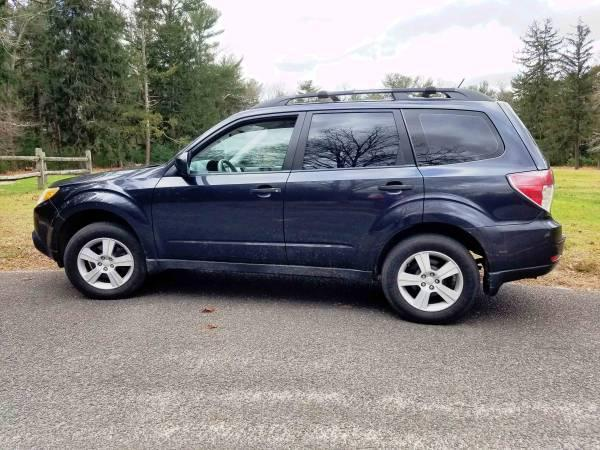Front_Bumper: (33, 203, 64, 274)
Front_Fender: (49, 170, 165, 274)
Front_Left_Door: (151, 172, 293, 275)
Front_Left_Window: (162, 111, 306, 173)
Left_Headlight: (33, 188, 59, 209)
Left_Taillight: (507, 166, 555, 213)
Rear_Bumper: (466, 209, 564, 295)
Rear_Fender: (402, 108, 540, 227)
Rear_Left_Door: (282, 166, 426, 284)
Rear_Left_Window: (290, 108, 416, 169)
Roof: (165, 92, 546, 170)
Wheel: (383, 228, 484, 321), (60, 219, 143, 297)
